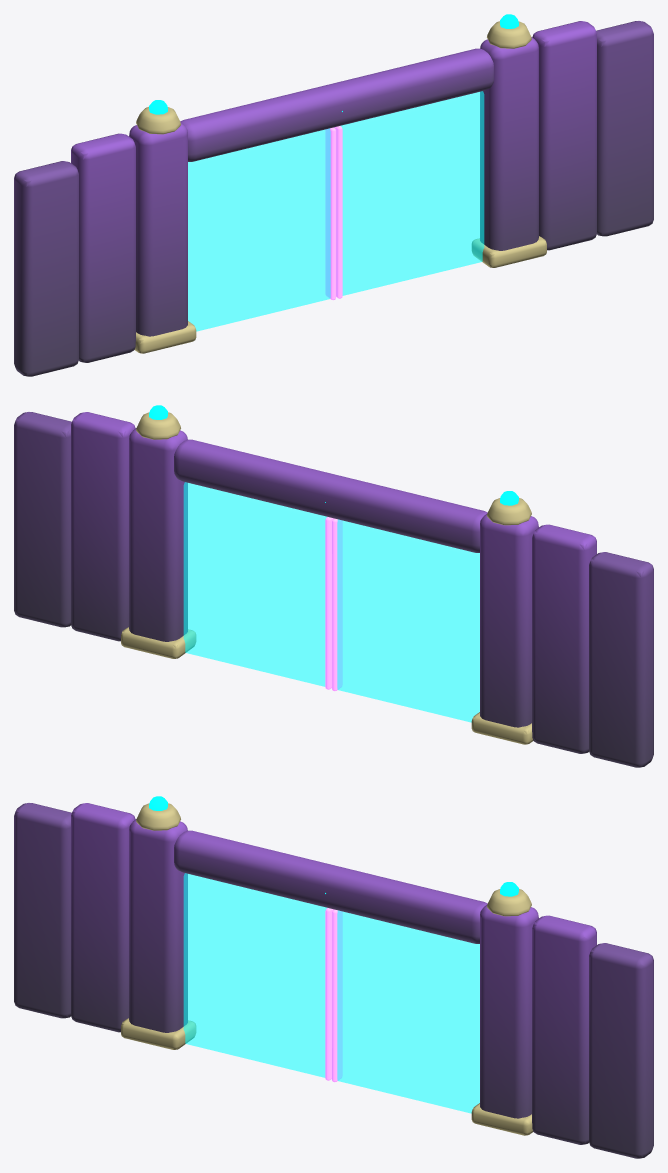
File: gate5.glb
The picture shows the model from 3 angles, top to bottom: view 1: azimuth 30°, elevation 25°; view 2: azimuth 150°, elevation 25°; view 3: azimuth 330°, elevation 25°; orthographic projection.
Visible parts, largest first — view 1: Body, Glow_00E5FF_T45, Glow_7B2FF7; view 2: Body, Glow_00E5FF_T45, Glow_7B2FF7; view 3: Body, Glow_00E5FF_T45, Glow_7B2FF7.
Boxes of the visible parts, left/top/right/bottom form: Body: left=14, top=21, right=653, bottom=376; Glow_00E5FF_T45: left=188, top=91, right=484, bottom=331; Glow_7B2FF7: left=325, top=126, right=342, bottom=300; Body: left=14, top=412, right=653, bottom=767; Glow_00E5FF_T45: left=183, top=482, right=479, bottom=722; Glow_7B2FF7: left=325, top=517, right=342, bottom=691; Body: left=14, top=803, right=653, bottom=1158; Glow_00E5FF_T45: left=183, top=873, right=479, bottom=1113; Glow_7B2FF7: left=325, top=908, right=342, bottom=1082.
Bounding box in the file's own units: 38.9 × 14.2 × 2.31.
